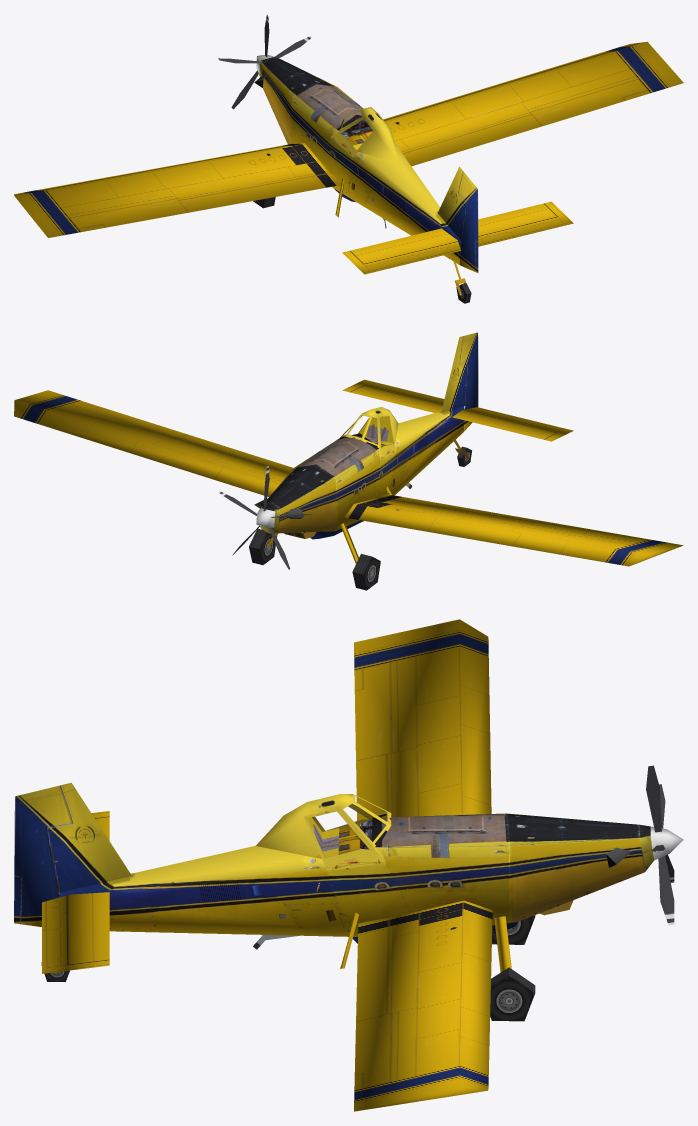
Rendered from Air-Tractor-AT-802-cbj_LOD04.gltf.
3 views of the same model, one above another, from view 1: azimuth 30°, elevation 25°; view 2: azimuth 150°, elevation 25°; view 3: azimuth 270°, elevation 25° (orthographic). The views are drawn at different scales.
Parts seen in each view (by area): view 1: fuselage.004; view 2: fuselage.004; view 3: fuselage.004.
Boxes of the visible parts, box(x1,y1,x2,y2) form: fuselage.004: box(14, 15, 683, 303); fuselage.004: box(14, 332, 683, 590); fuselage.004: box(14, 619, 683, 1111).
Size of what is drawn, in the model's own units: 18.07 by 3.86 by 10.91.
